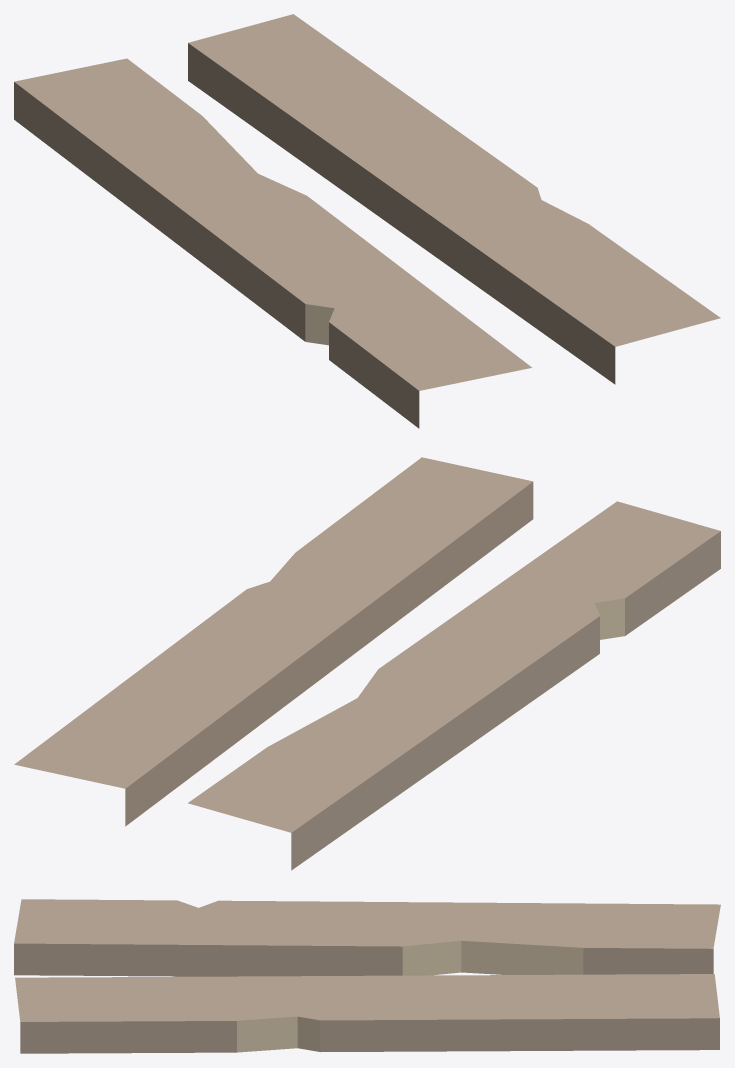
The model's file is Cave_Prop_Support_Ceiling_Boards_3.glb.
3 renders of one model, top to bottom at view 1: azimuth 30°, elevation 25°; view 2: azimuth 150°, elevation 25°; view 3: azimuth 270°, elevation 25°, orthographic. The views are drawn at different scales.
Parts seen in each view (by area): view 1: Cave_Prop_Support_Ceiling_Boards_3; view 2: Cave_Prop_Support_Ceiling_Boards_3; view 3: Cave_Prop_Support_Ceiling_Boards_3.
Part boxes in pixels (x1,y1,x2,y2): Cave_Prop_Support_Ceiling_Boards_3: (14, 14, 720, 428); Cave_Prop_Support_Ceiling_Boards_3: (14, 457, 720, 870); Cave_Prop_Support_Ceiling_Boards_3: (14, 899, 720, 1053).
Size of the model in its own units: 0.8302 by 0.1 by 2.02.
